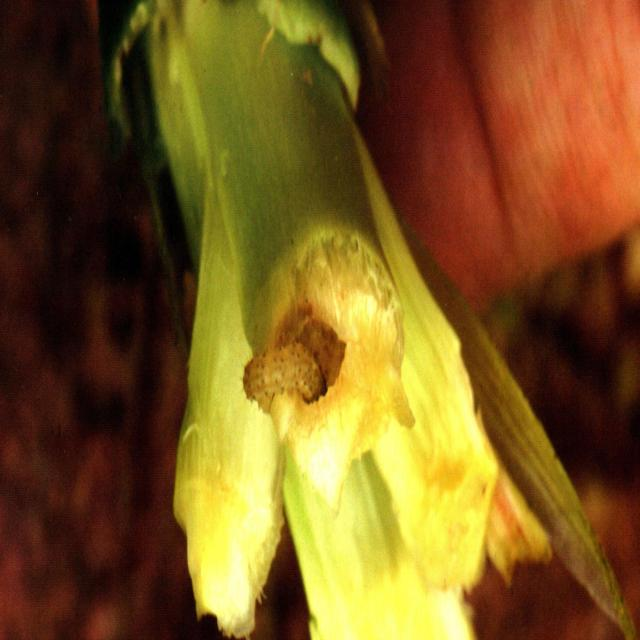peach borer: (235, 333, 327, 415)
